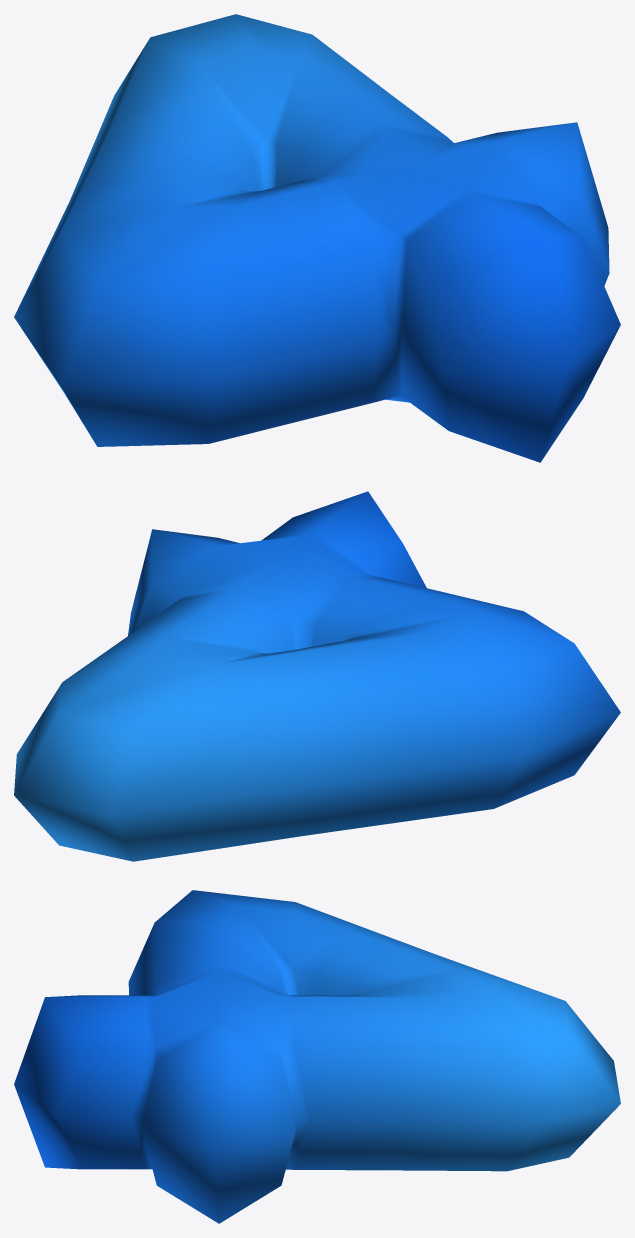
Rendered from CartoonFont_4.FBX.
3 renders of one model, top to bottom at view 1: azimuth 30°, elevation 25°; view 2: azimuth 150°, elevation 25°; view 3: azimuth 270°, elevation 25°, orthographic. The views are drawn at different scales.
Visible parts, largest first — view 1: 4; view 2: 4; view 3: 4.
Boxes of the visible parts, <box> form: 4: <box>14,14,620,462</box>; 4: <box>14,491,620,861</box>; 4: <box>14,890,620,1223</box>.
Size of the model in its own units: 25.57 by 9.46 by 30.53.
Materials: 1 (1 with a texture image).
